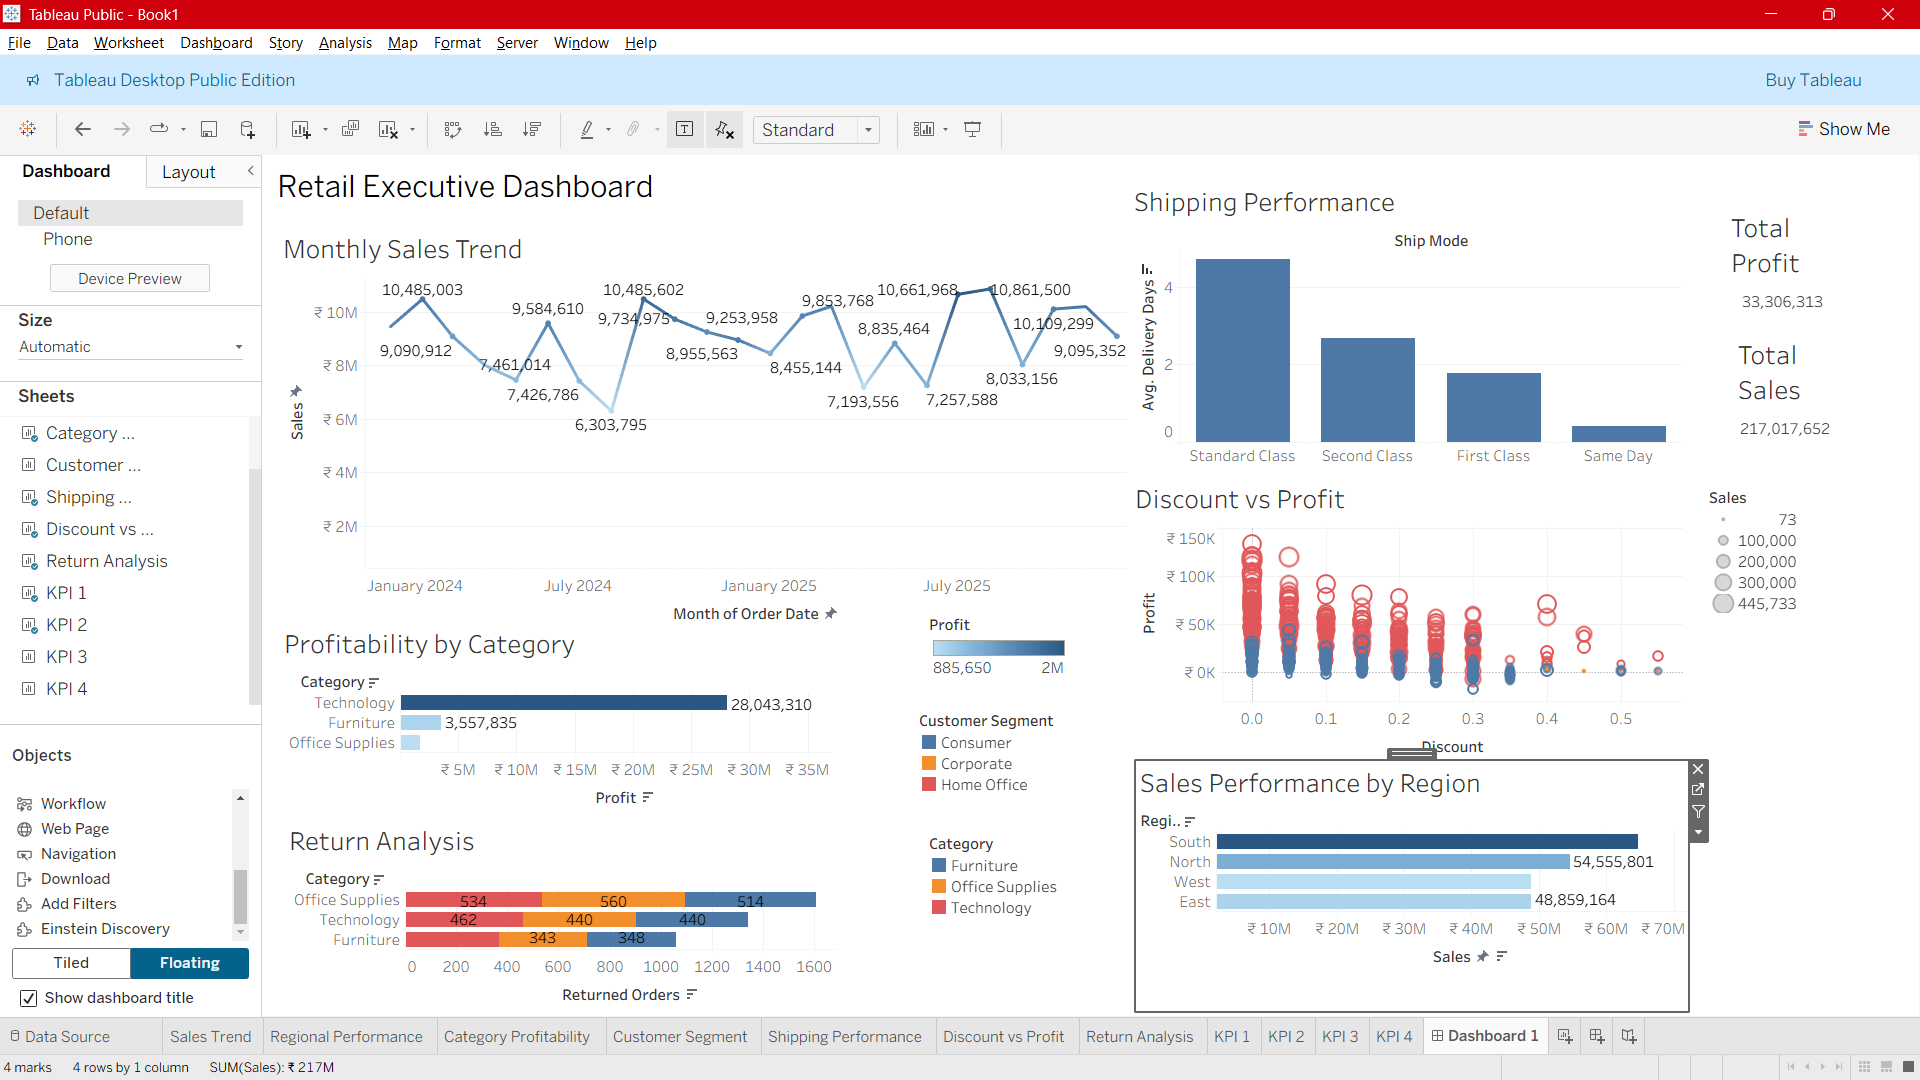

This screenshot's page, from the dashboard's own definition file:
{"tool":"tableau","page":{"name":"Dashboard 1","canvas":[1000,1000],"units":"permille","ordinal":0},"visuals":[{"type":"title","box":[4.8,9.3,990.3,53.4]},{"type":"worksheet","title":"Shipping Performance","mark":"Automatic","rows":["delivery_days"],"cols":["ship_mode"],"box":[523.8,29,333.1,333.3]},{"type":"worksheet","title":"KPI 2","mark":"Automatic","box":[884.1,59.2,67.6,147.5]},{"type":"worksheet","title":"Sales Trend","mark":"Automatic","rows":["sales"],"cols":["order_date"],"box":[10.3,83.6,511.8,469.2]},{"type":"worksheet","title":"KPI 1","mark":"Automatic","box":[888.4,206.7,61.6,130.1]},{"type":"worksheet","title":"Discount vs Profit","mark":"Automatic","rows":["profit"],"cols":["discount"],"box":[524.4,374,333.1,333.3]},{"type":"legend","title":"Discount vs Profit","param":"[federated.1i6tupz0d584jg14u8l03011ymi4].[sum:sales:qk]","box":[873.3,385.6,84.5,147.5]},{"type":"legend","title":"Sales Trend","param":"[federated.1i6tupz0d584jg14u8l03011ymi4].[sum:profit:qk]","box":[402.5,533.1,84.5,102.2]},{"type":"worksheet","title":"Category Profitability","mark":"Automatic","rows":["category"],"cols":["profit"],"box":[10.9,542.4,333.1,240.4]},{"type":"legend","title":"Return Analysis","param":"[federated.1i6tupz0d584jg14u8l03011ymi4].[none:customer_segment:nk]","box":[396.5,644.6,84.5,98.7]},{"type":"worksheet","title":"Regional Performance","mark":"Automatic","rows":["region"],"cols":["sales"],"box":[527.5,703.8,333.1,290.4]},{"type":"legend","title":"Discount vs Profit","param":"[federated.1i6tupz0d584jg14u8l03011ymi4].[none:category:nk]","box":[402.5,787.5,84.5,98.7]}]}

Visuals, with their boxes on the dashboard's canvas, which has no fixed pixel size, in thousandths of its width and height (x1, y1, x2, y2). These are canvas units, not pixel positions in the 1920x1080 screenshot, which may show the page scaled, cropped or inside an application window:
title: 5/9/995/63
"Shipping Performance" worksheet: 524/29/857/362
"KPI 2" worksheet: 884/59/952/207
"Sales Trend" worksheet: 10/84/522/553
"KPI 1" worksheet: 888/207/950/337
"Discount vs Profit" worksheet: 524/374/858/707
"Discount vs Profit" legend: 873/386/958/533
"Sales Trend" legend: 402/533/487/635
"Category Profitability" worksheet: 11/542/344/783
"Return Analysis" legend: 396/645/481/743
"Regional Performance" worksheet: 528/704/861/994
"Discount vs Profit" legend: 402/788/487/886
